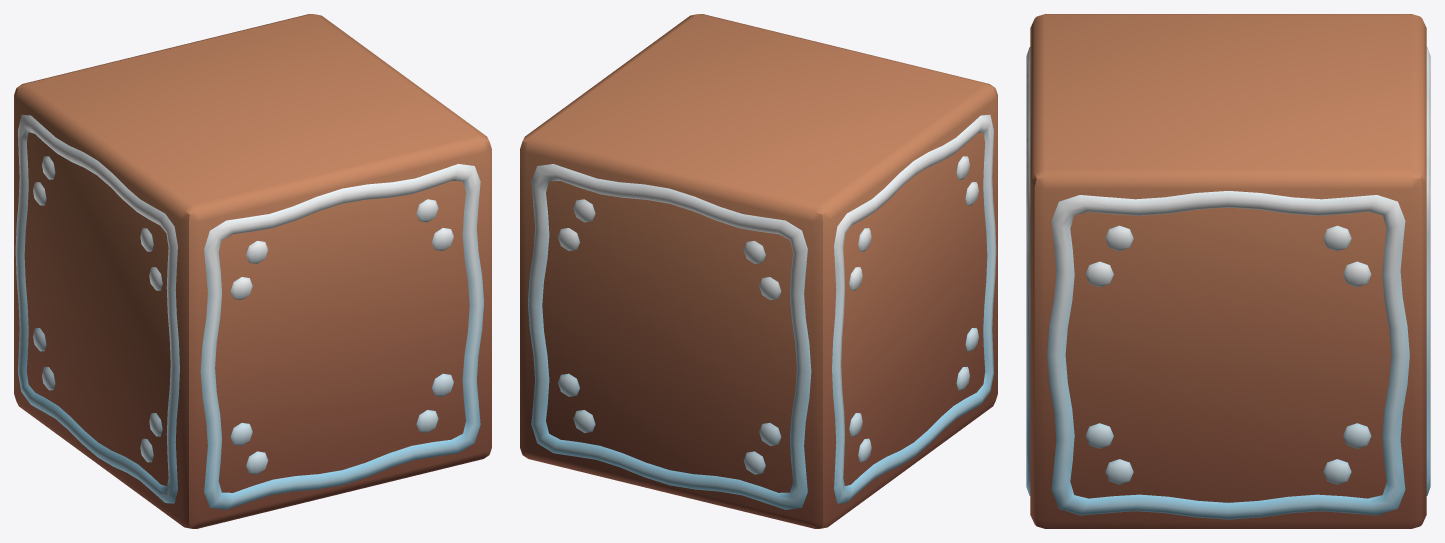
File: cube_gingerbread_large_A.obj
The picture shows the model from 3 angles, left to right: view 1: azimuth 30°, elevation 25°; view 2: azimuth 150°, elevation 25°; view 3: azimuth 270°, elevation 25°; orthographic projection. The views are drawn at different scales.
Visible parts, largest first — view 1: cube_gingerbread_large_A; view 2: cube_gingerbread_large_A; view 3: cube_gingerbread_large_A.
Part boxes in pixels (left/top/right/bottom): cube_gingerbread_large_A: left=14, top=14, right=491, bottom=528; cube_gingerbread_large_A: left=520, top=14, right=997, bottom=528; cube_gingerbread_large_A: left=1026, top=14, right=1430, bottom=528.
Size of the model in its own units: 4.08 by 4 by 4.08.
Materials: 1 (1 with a texture image).
